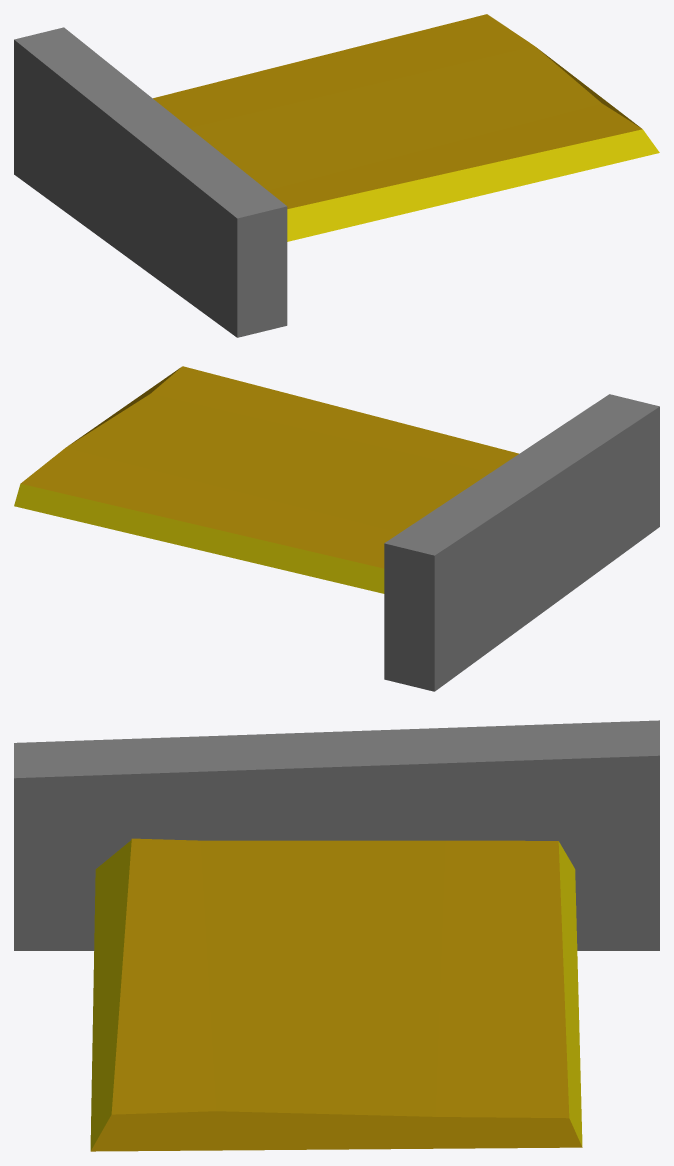
The model's file is ledge.glb.
3 views of the same model, one above another, from view 1: azimuth 30°, elevation 25°; view 2: azimuth 150°, elevation 25°; view 3: azimuth 270°, elevation 25° (orthographic). The views are drawn at different scales.
Visible parts, largest first — view 1: ledge; view 2: ledge; view 3: ledge.
Boxes of the visible parts, box(x1,y1,x2,y2) form: ledge: box(14, 14, 659, 337); ledge: box(14, 366, 659, 691); ledge: box(14, 720, 659, 1151).
Bounding box in the file's own units: 1.86 × 0.534 × 1.6.
